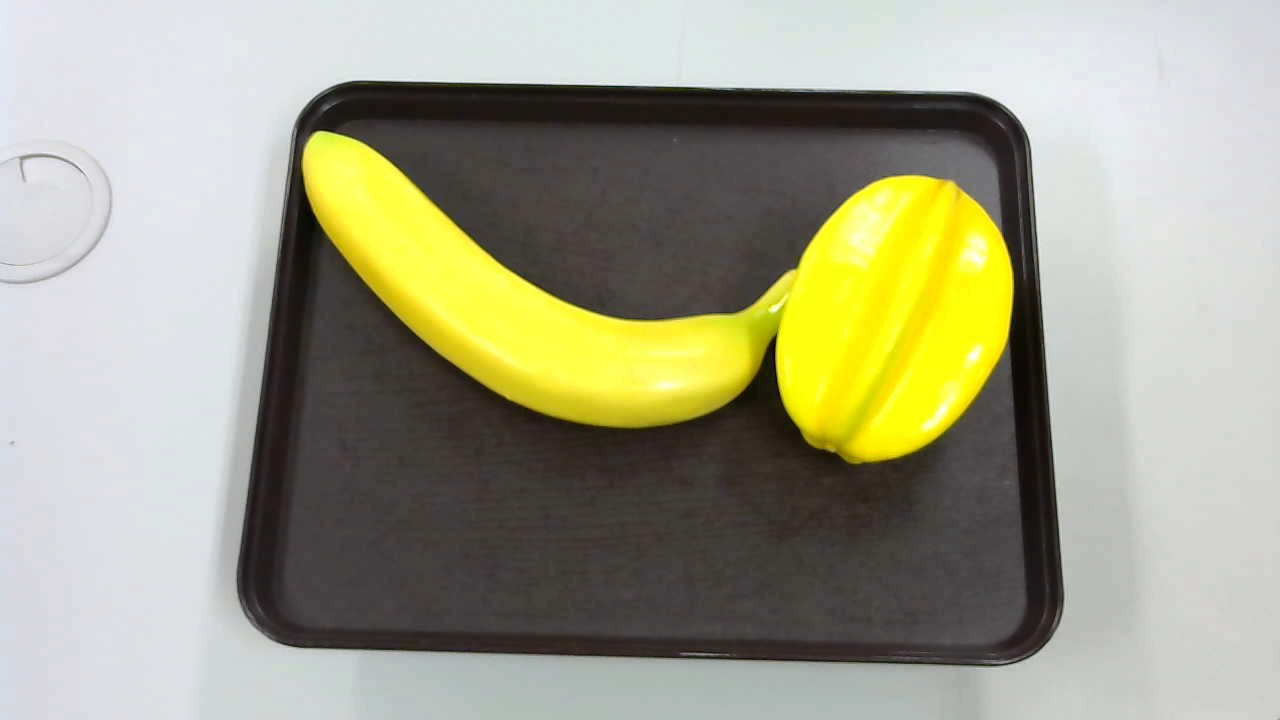banana: (293, 123, 803, 442)
star fruit: (768, 170, 1014, 477)
